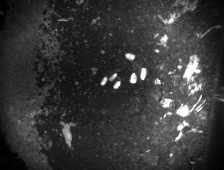corn: (97, 73, 111, 87), (138, 65, 149, 81), (127, 70, 139, 84), (122, 51, 137, 62), (106, 70, 119, 82), (111, 78, 123, 90)
